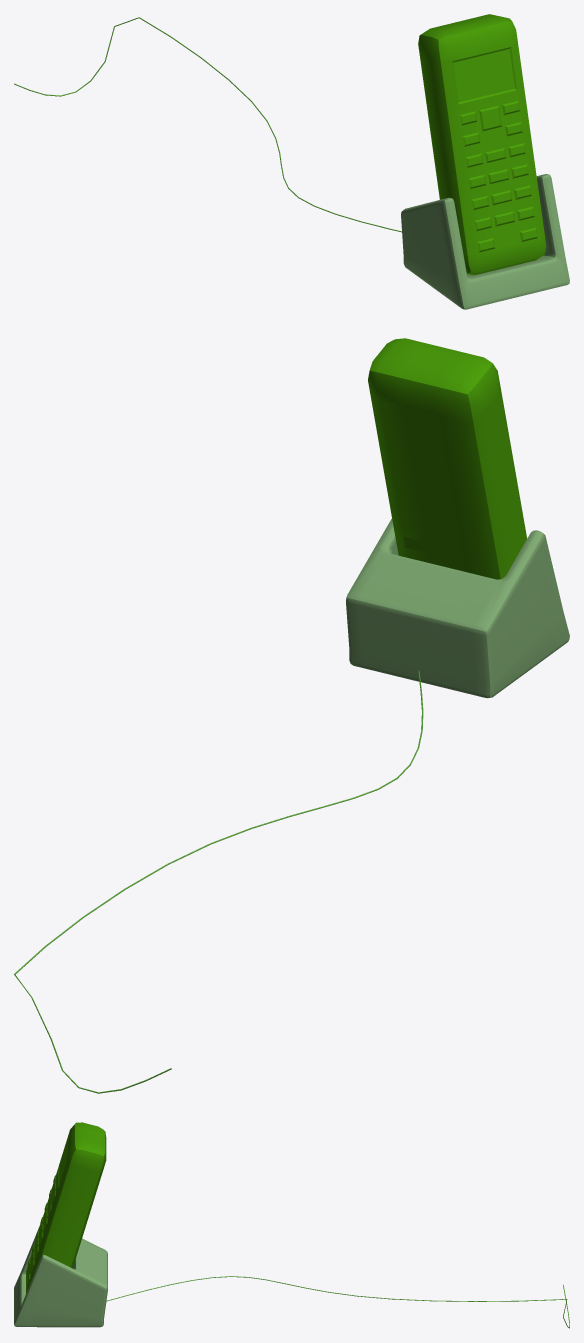
Rendered from INTE_telefone.fbx.
3 views of the same model, one above another, from view 1: azimuth 30°, elevation 25°; view 2: azimuth 150°, elevation 25°; view 3: azimuth 270°, elevation 25° (orthographic). The views are drawn at different scales.
Visible parts, largest first — view 1: telefone1, telefoneSuporte, fio; view 2: telefone1, telefoneSuporte, fio; view 3: telefoneSuporte, telefone1, fio.
Boxes of the visible parts, <box> form: telefone1: <box>418,14,546,275</box>; telefoneSuporte: <box>401,174,569,309</box>; fio: <box>14,17,401,232</box>; telefone1: <box>368,338,527,579</box>; telefoneSuporte: <box>346,518,569,698</box>; fio: <box>14,670,423,1093</box>; telefoneSuporte: <box>14,1225,107,1327</box>; telefone1: <box>26,1122,106,1293</box>; fio: <box>106,1276,569,1328</box>.
Bounding box in the file's own units: 1.15 × 1.79 × 4.16.
